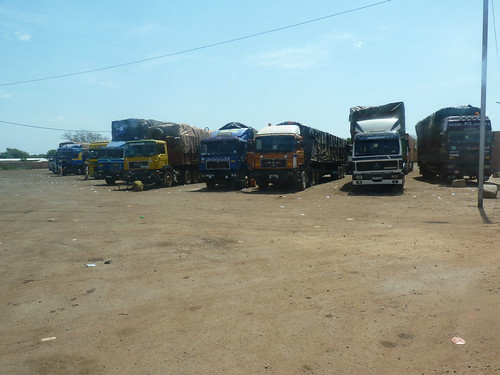sky: (1, 1, 500, 134)
truck: (415, 101, 494, 184), (257, 120, 351, 185), (345, 97, 406, 194), (126, 121, 207, 193), (200, 115, 256, 188), (91, 117, 151, 182)
